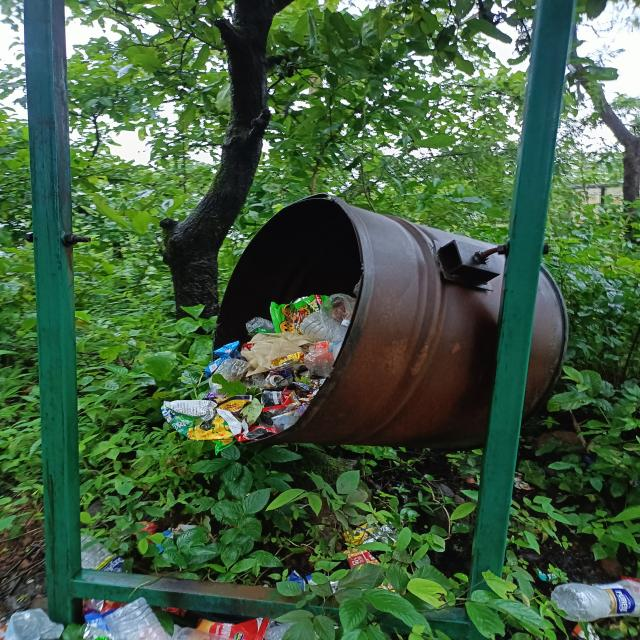garbage: (11, 519, 634, 640), (144, 290, 414, 446)
